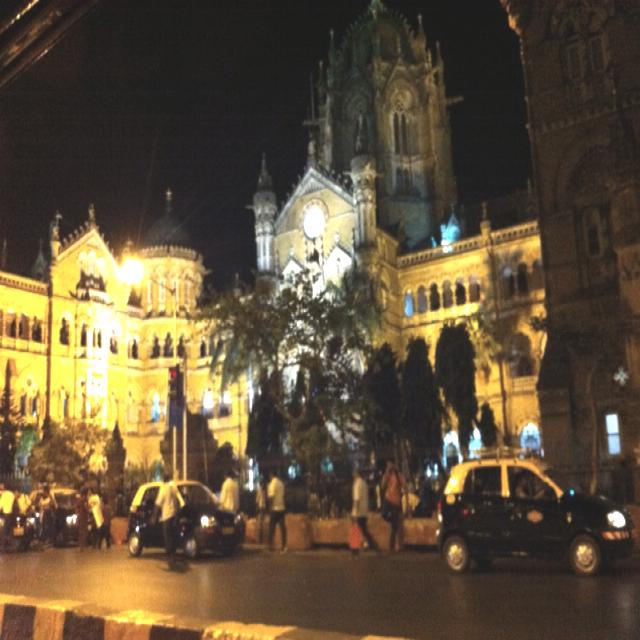Car: (439, 461, 635, 576), (124, 479, 250, 564)
